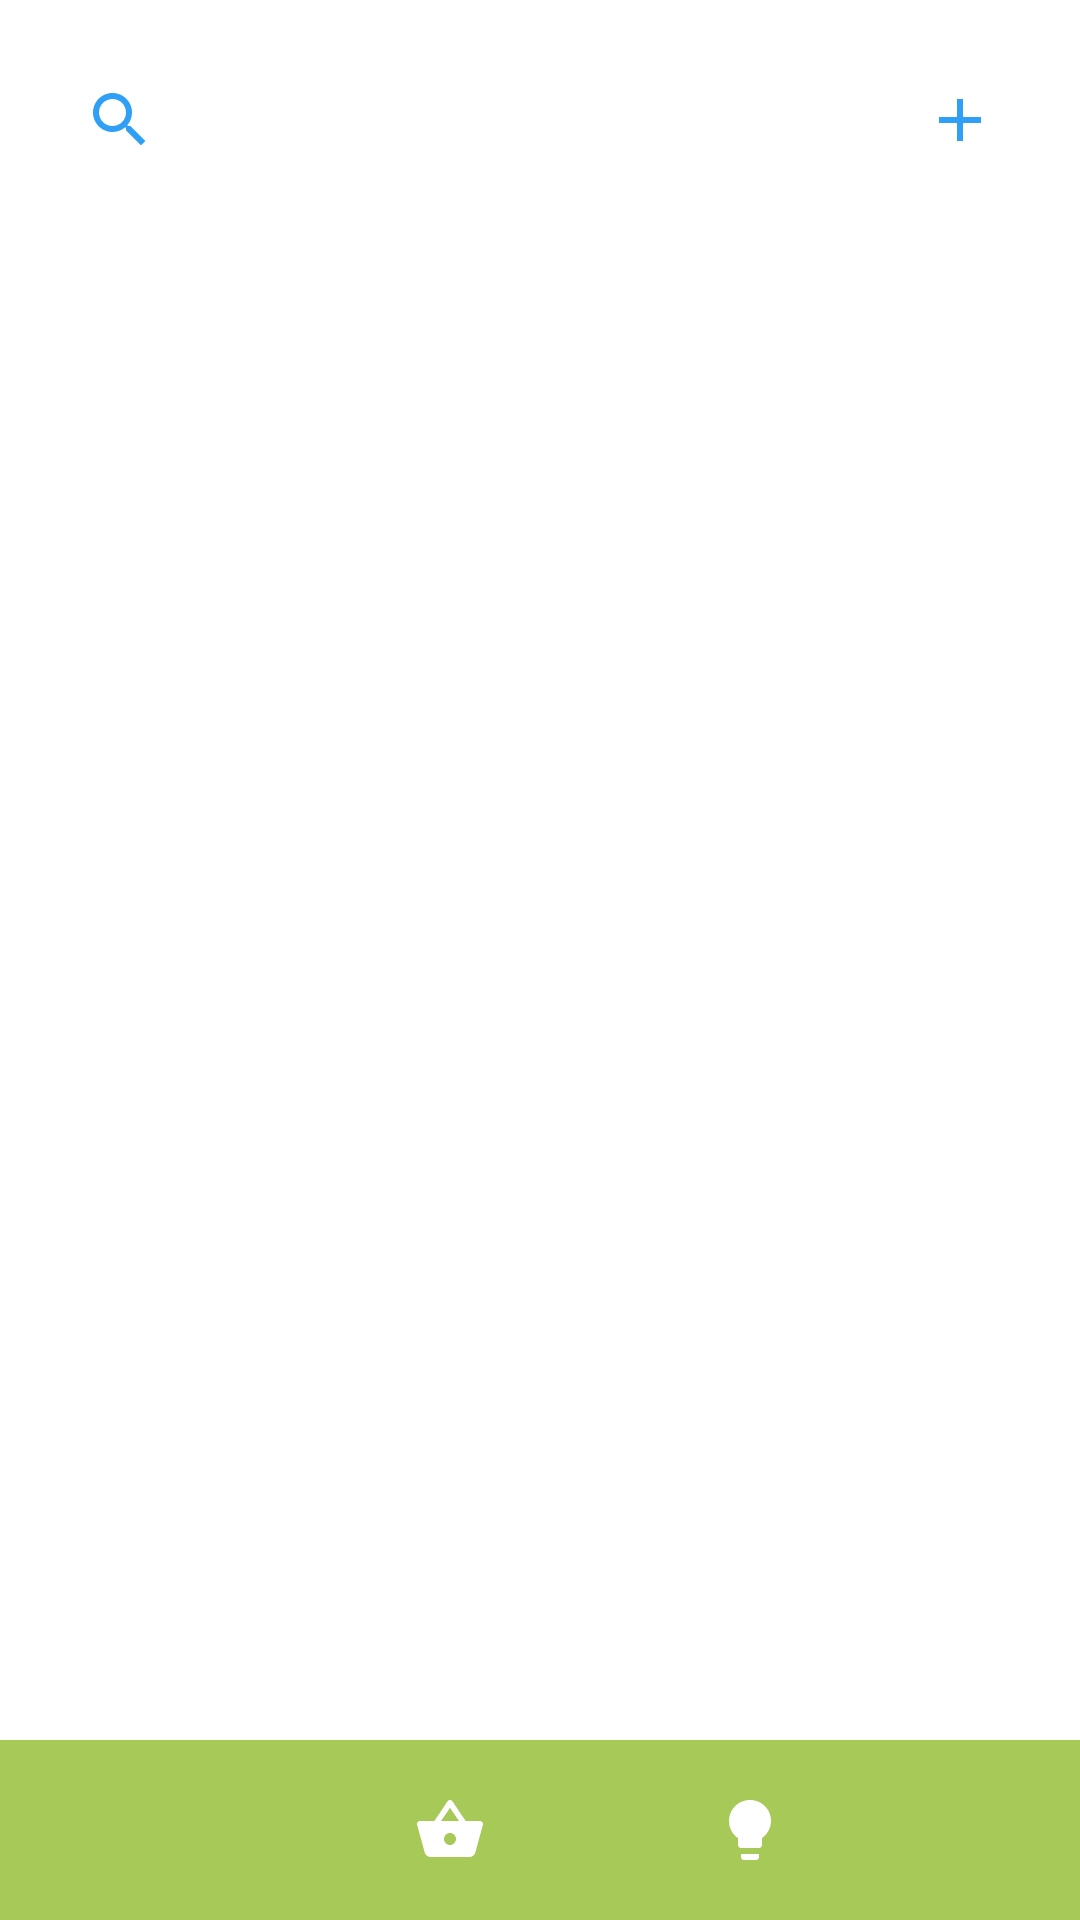

Point at icon controls on the screen. Image size 1080 × 1920, points as point (x, y).
add: point (960, 120)
lightbulb: point (750, 1830)
search: point (119, 119)
shopping basket: point (450, 1828)
